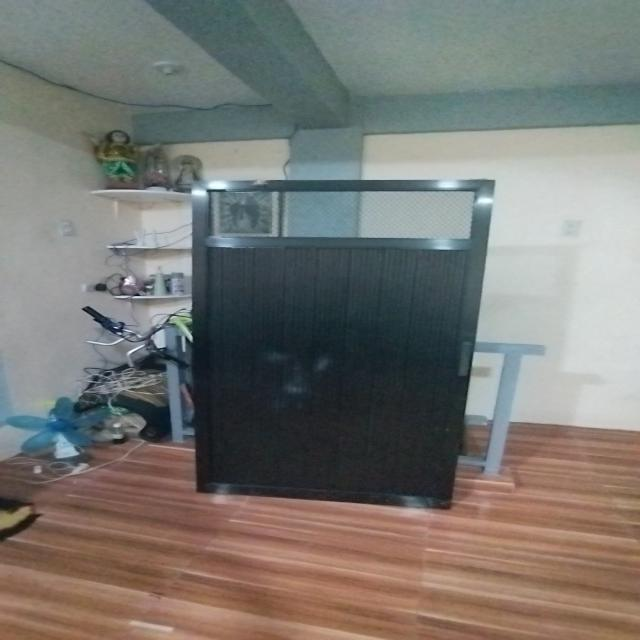door: (174, 175, 494, 510)
